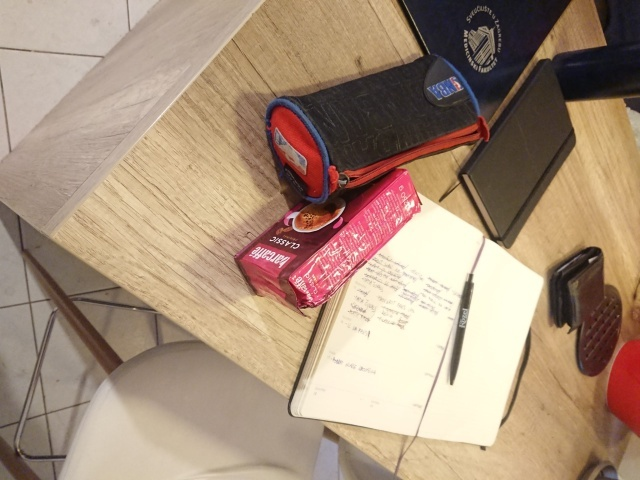Barcaffe Classic Original 225g: (231, 162, 424, 320)
